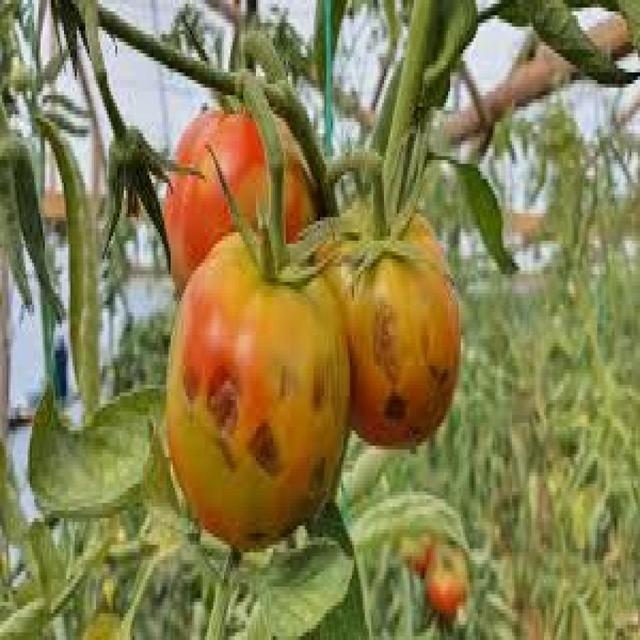Spotted wilt Virus Fruit: (94, 132, 261, 259)
